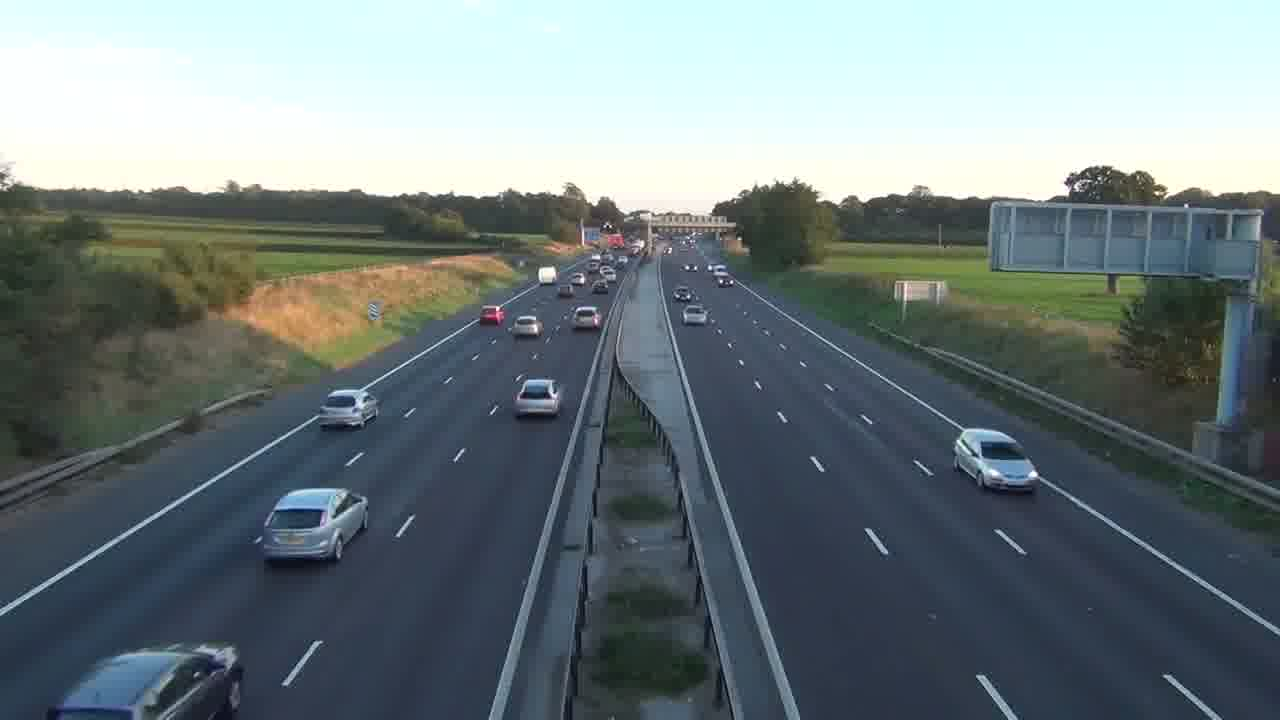car: (46, 640, 245, 718), (254, 487, 369, 565), (952, 427, 1041, 494), (318, 389, 380, 429), (513, 377, 562, 419), (509, 315, 544, 337), (573, 305, 600, 330), (683, 306, 708, 325), (673, 285, 692, 302)
